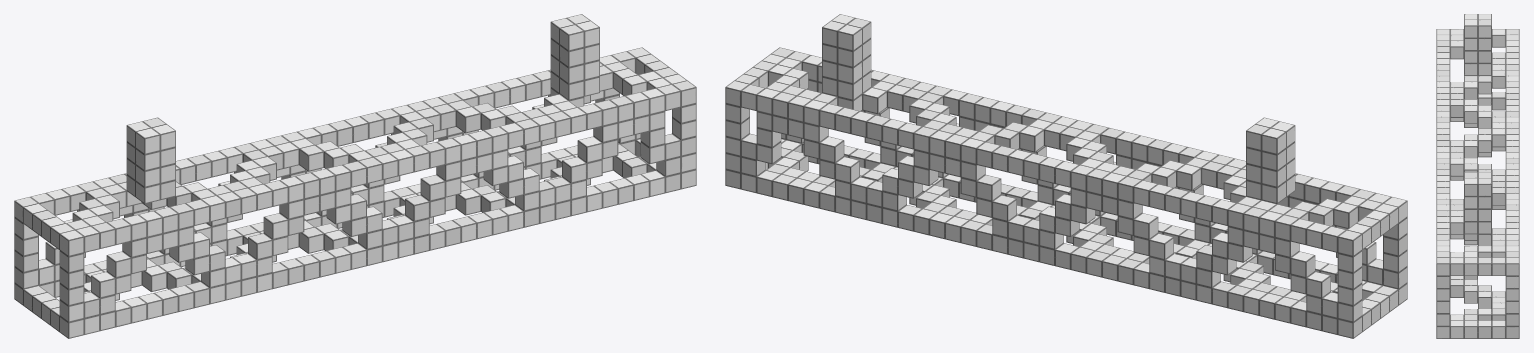
File: truss_segment.glb
3 renders of one model, left to right at view 1: azimuth 30°, elevation 25°; view 2: azimuth 150°, elevation 25°; view 3: azimuth 270°, elevation 25°, orthographic. The views are drawn at different scales.
Parts seen in each view (by area): view 1: truss_segment; view 2: truss_segment; view 3: truss_segment.
Part boxes in pixels (<box>): truss_segment: <box>14,14,696,338</box>; truss_segment: <box>725,14,1407,338</box>; truss_segment: <box>1436,14,1519,338</box>.
Bounding box in the file's own units: 2 × 0.5 × 0.3.
2 materials, 2 textured.
